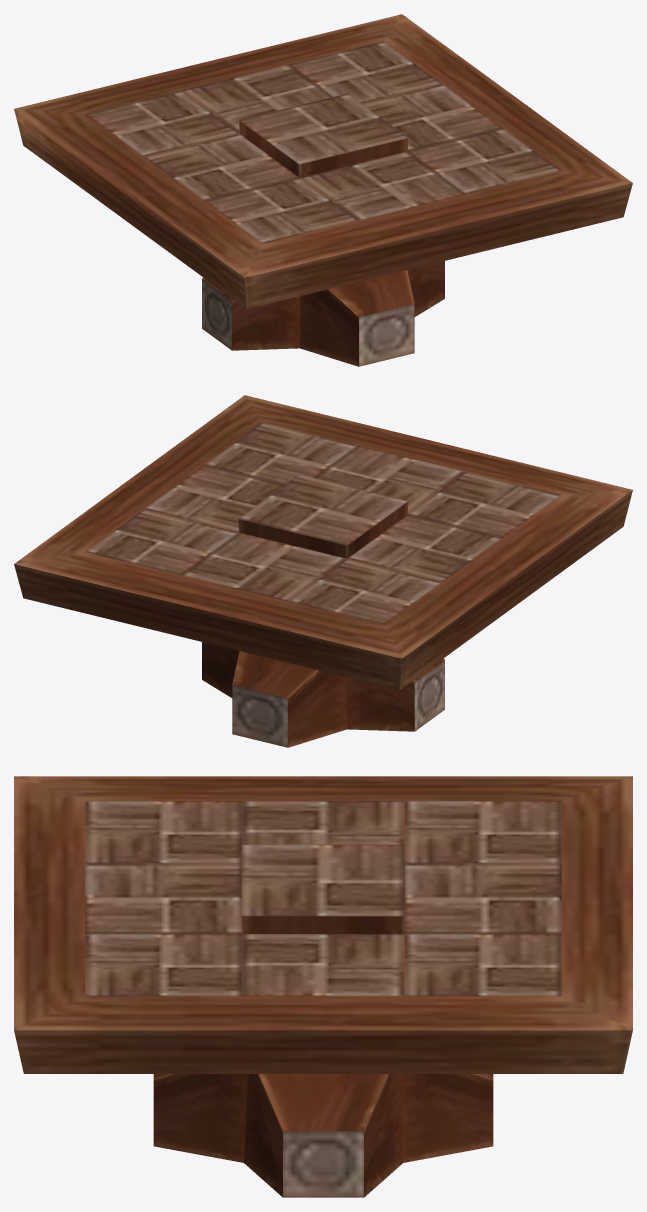
3 renders of one model, top to bottom at view 1: azimuth 30°, elevation 25°; view 2: azimuth 150°, elevation 25°; view 3: azimuth 270°, elevation 25°, orthographic. The views are drawn at different scales.
Bounding box in the file's own units: 2.16 × 0.9825 × 2.23.
1 material, 1 textured.
